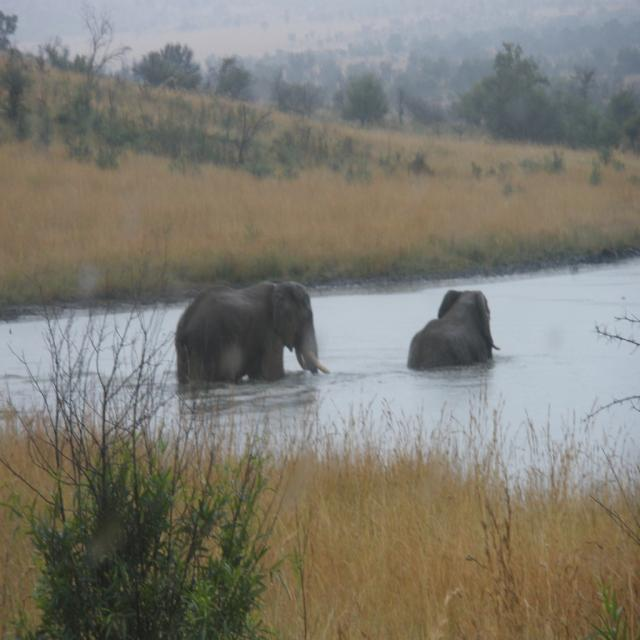Elephant: (174, 279, 330, 385), (406, 288, 500, 371)
